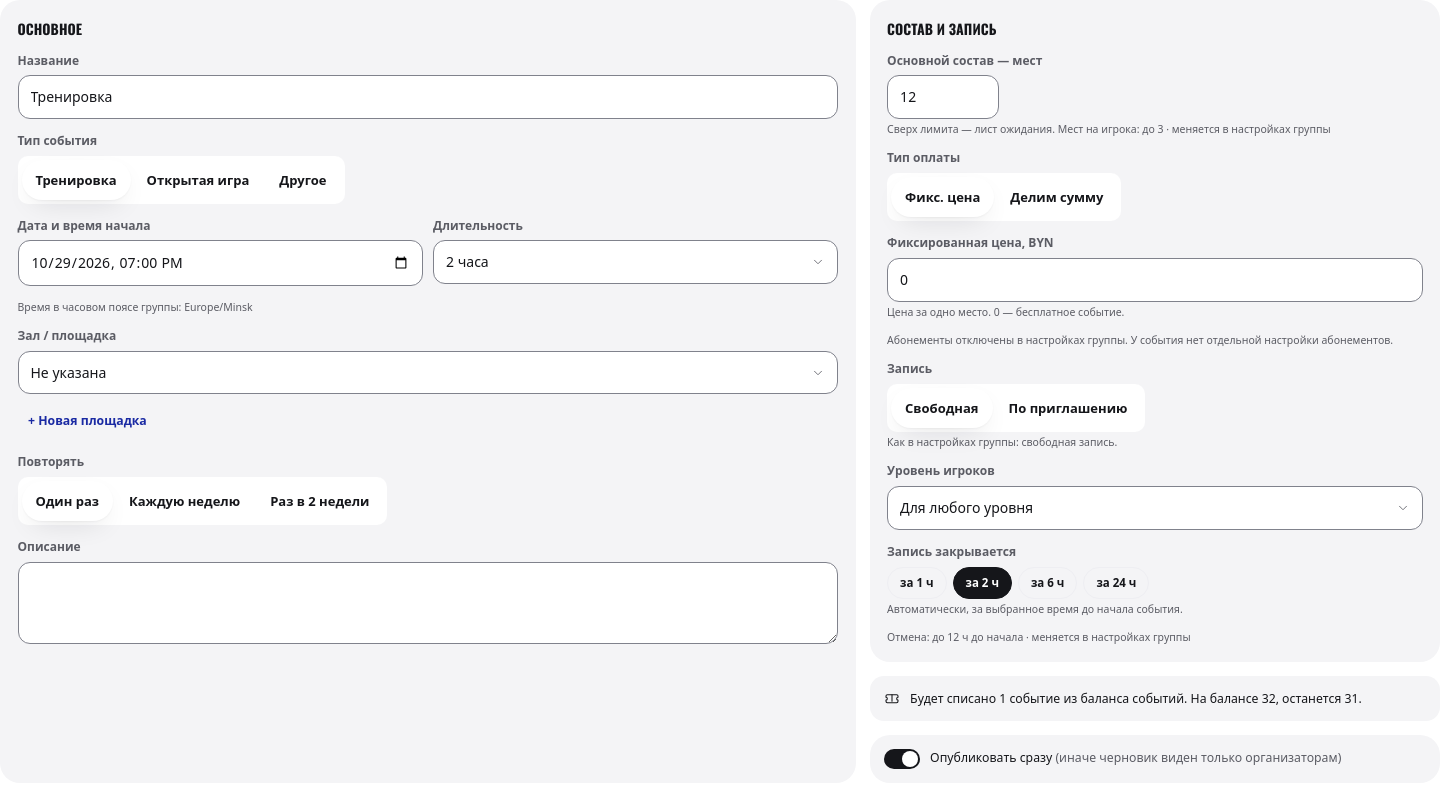
Scenario: create a series with preview › sends the rule, template and exceptions to the preview and shows dates and the count
The width and height of the screenshot is (1440, 796).
Replace the text in the field with id "ev-start" with "2030-06-08T19:00" at coordinates (220, 263), box [18, 240, 422, 286]
Wait 400 ms
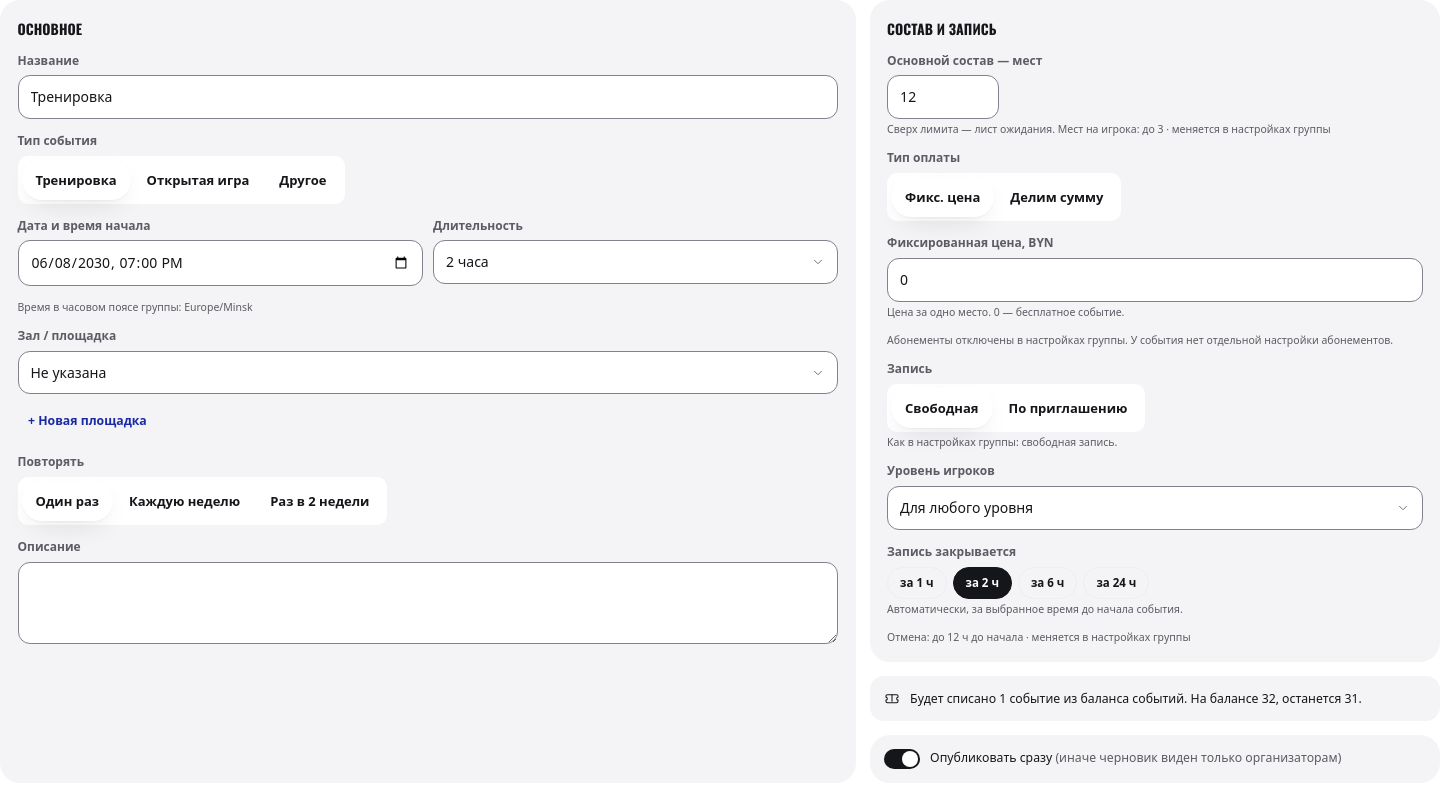
Click the radio button labelled "Каждую неделю" at coordinates (185, 501), box [115, 481, 254, 521]
Wait 400 ms
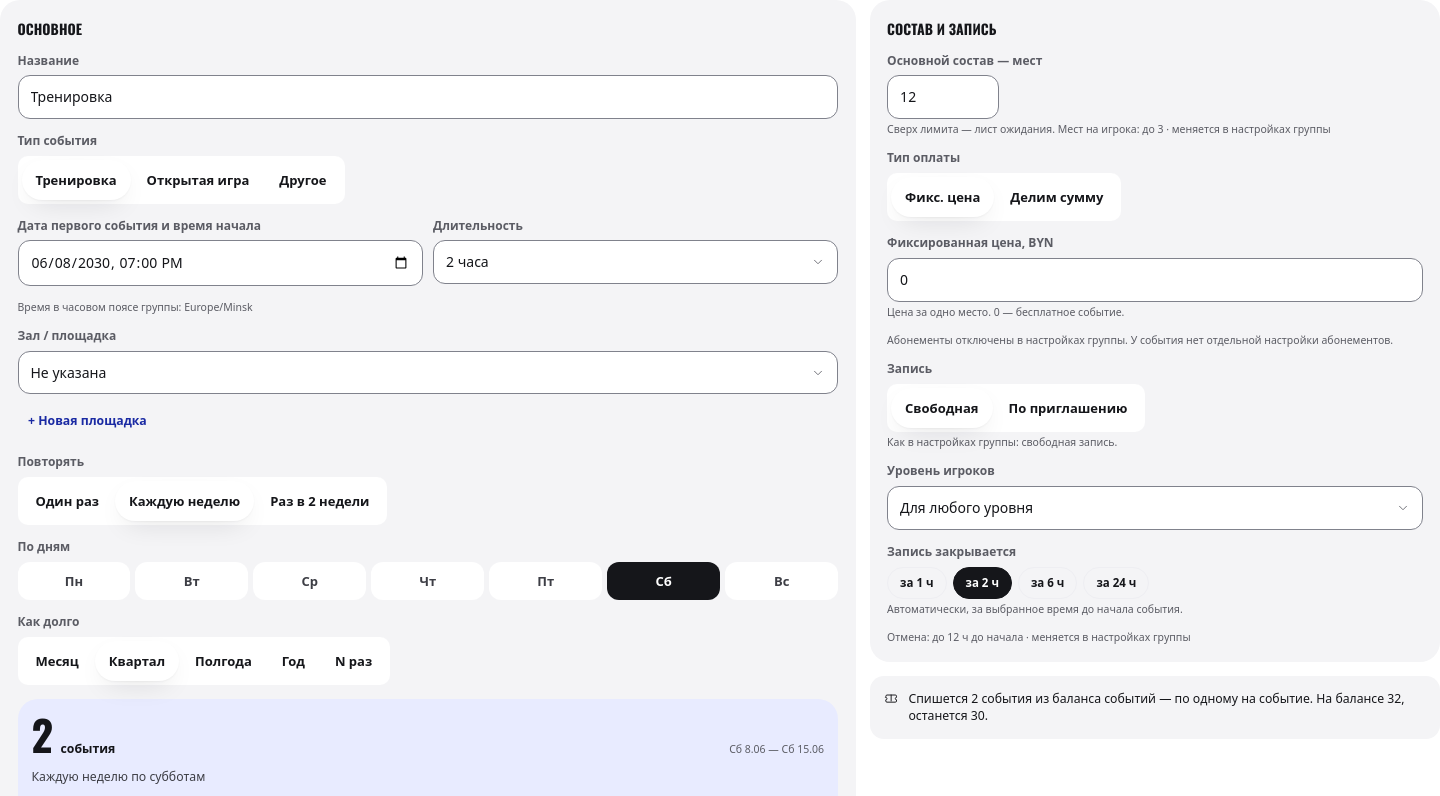
Expected: the text with test id "series-total" reads "2", [32, 703, 54, 765]
Expected: the text "Сб 8.06" is shown, [729, 742, 824, 756]
Expected: the text "Каждую неделю по субботам" is shown, [32, 768, 205, 785]
